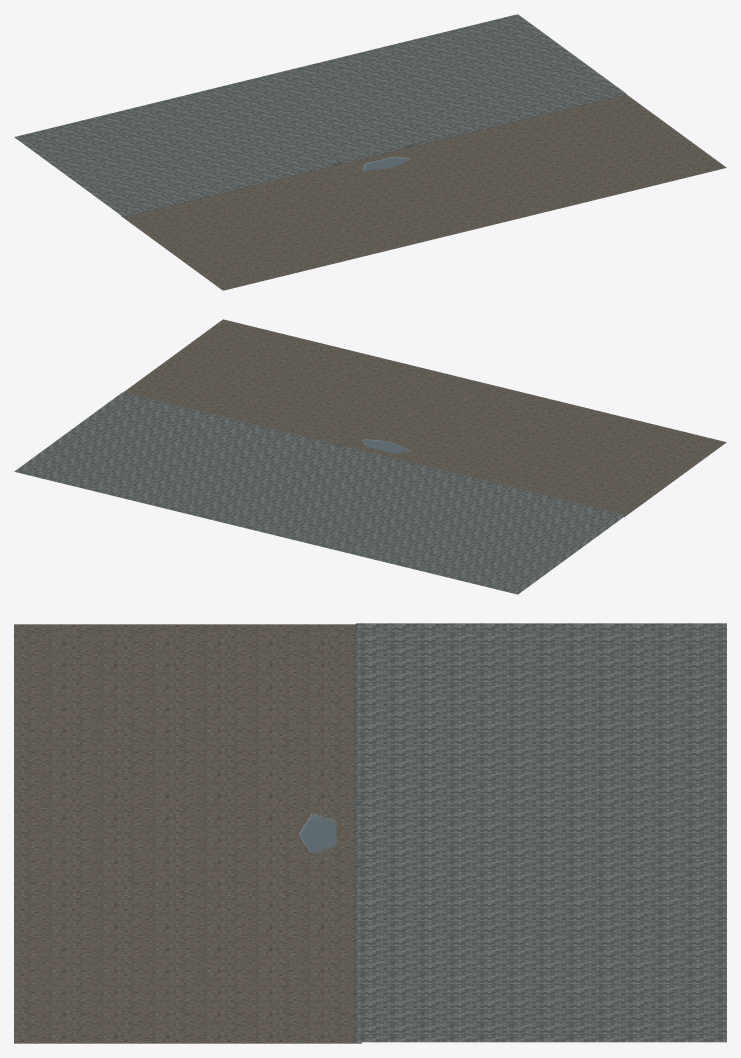
File: street.glb
3 views of the same model, one above another, from view 1: azimuth 30°, elevation 25°; view 2: azimuth 150°, elevation 25°; view 3: azimuth 270°, elevation 25° (orthographic). The views are drawn at different scales.
Visible parts, largest first — view 1: street; view 2: street; view 3: street.
Part boxes in pixels (left/top/right/bottom): street: left=14, top=14, right=726, bottom=290; street: left=14, top=319, right=726, bottom=594; street: left=14, top=623, right=726, bottom=1043.
Bounding box in the file's own units: 48 × 0.114 × 34.5.
Materials: 6 (2 with a texture image).
